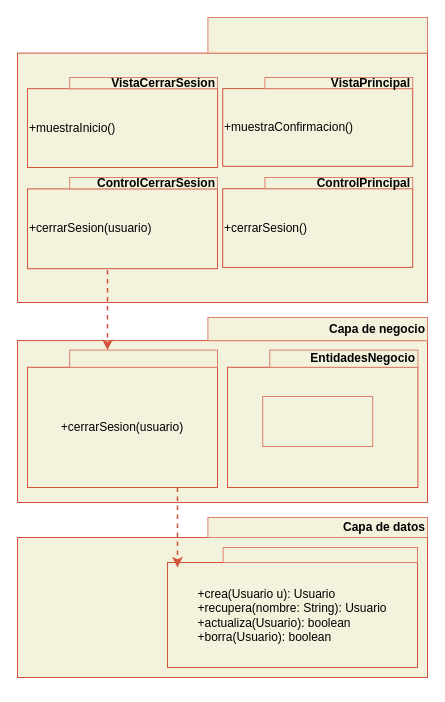
The diagram is 445 pixels wide and 702 high, and some of its shapes have lost their labels. The shapes that lost their labels are listed below. From the top down, each one's box as (x1, y1, x2, y2) in pixels, then its label:
(207, 16, 428, 53): Capa de presentación
(69, 349, 218, 367): ServicioUsuario
(262, 396, 373, 446): Usuario
(222, 546, 418, 562): UsuarioRepository
